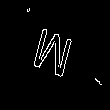M_S: (31, 24, 79, 86)
